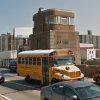Bus: (13, 45, 67, 84)
